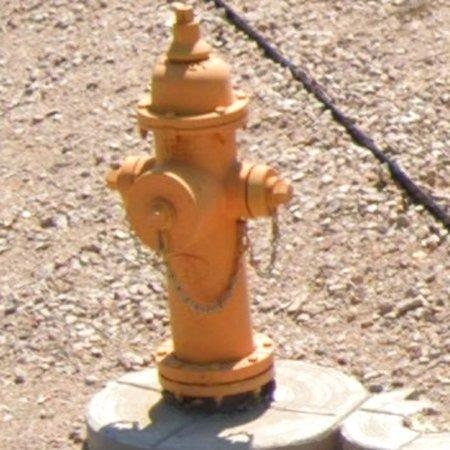a fire hydrant: (88, 8, 367, 450)
